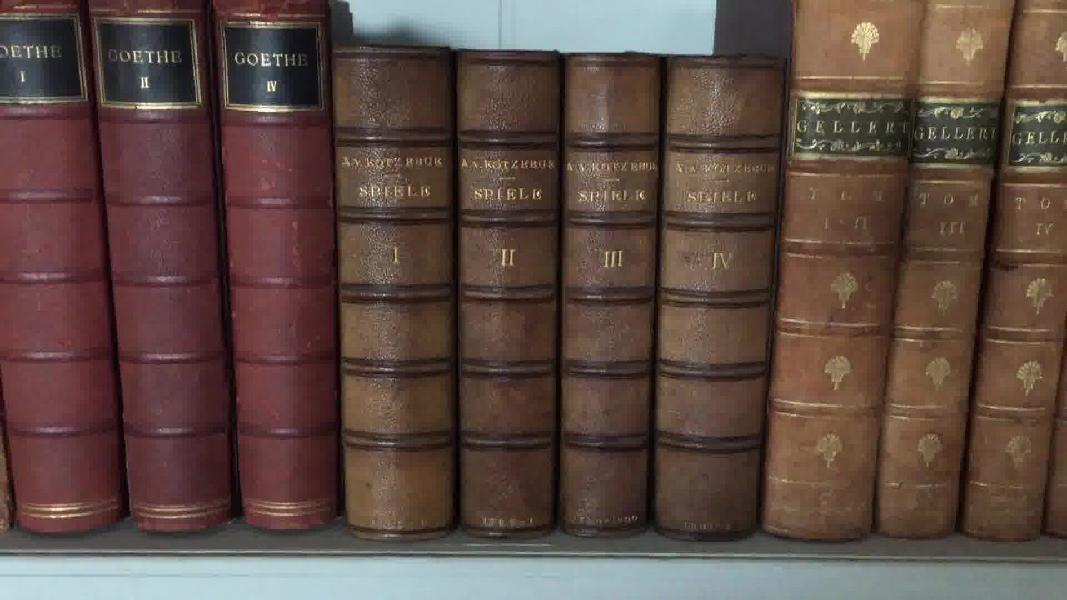Aa6-11_13: (5, 15, 335, 542)
Aa6-14_17: (323, 34, 809, 551)
